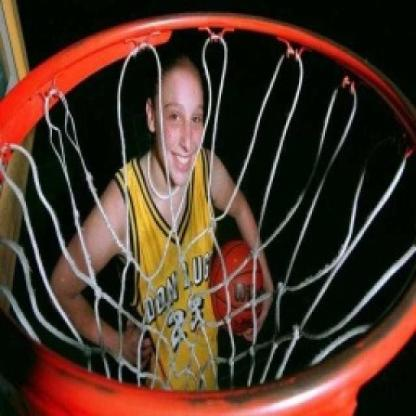basketball: (209, 241, 268, 332)
